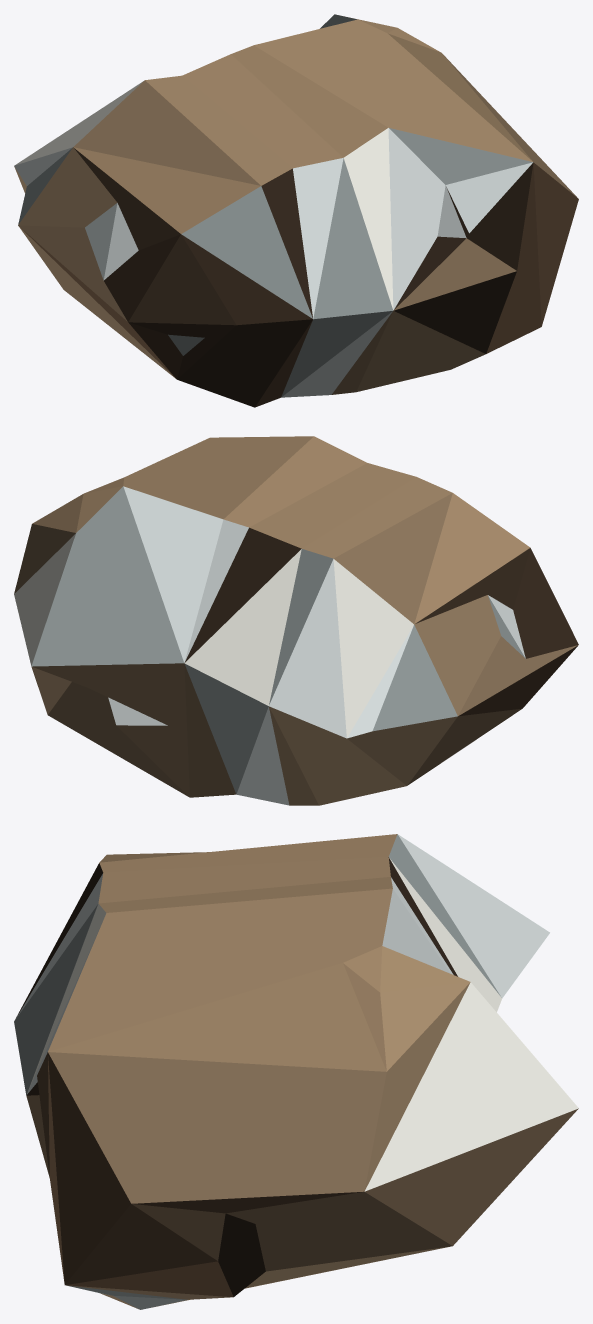
Rendered from SilverOreRock.glb.
3 renders of one model, top to bottom at view 1: azimuth 30°, elevation 25°; view 2: azimuth 150°, elevation 25°; view 3: azimuth 270°, elevation 25°, orthographic. The views are drawn at different scales.
Parts seen in each view (by area): view 1: SilverOreRock_ExportDarkBrown; view 2: SilverOreRock_ExportDarkBrown; view 3: SilverOreRock_ExportDarkBrown.
Boxes of the visible parts, left/top/right/bottom form: SilverOreRock_ExportDarkBrown: left=14, top=14, right=578, bottom=407; SilverOreRock_ExportDarkBrown: left=14, top=436, right=578, bottom=805; SilverOreRock_ExportDarkBrown: left=14, top=834, right=578, bottom=1309.
Bounding box in the file's own units: 0.2701 × 0.1591 × 0.2236.
